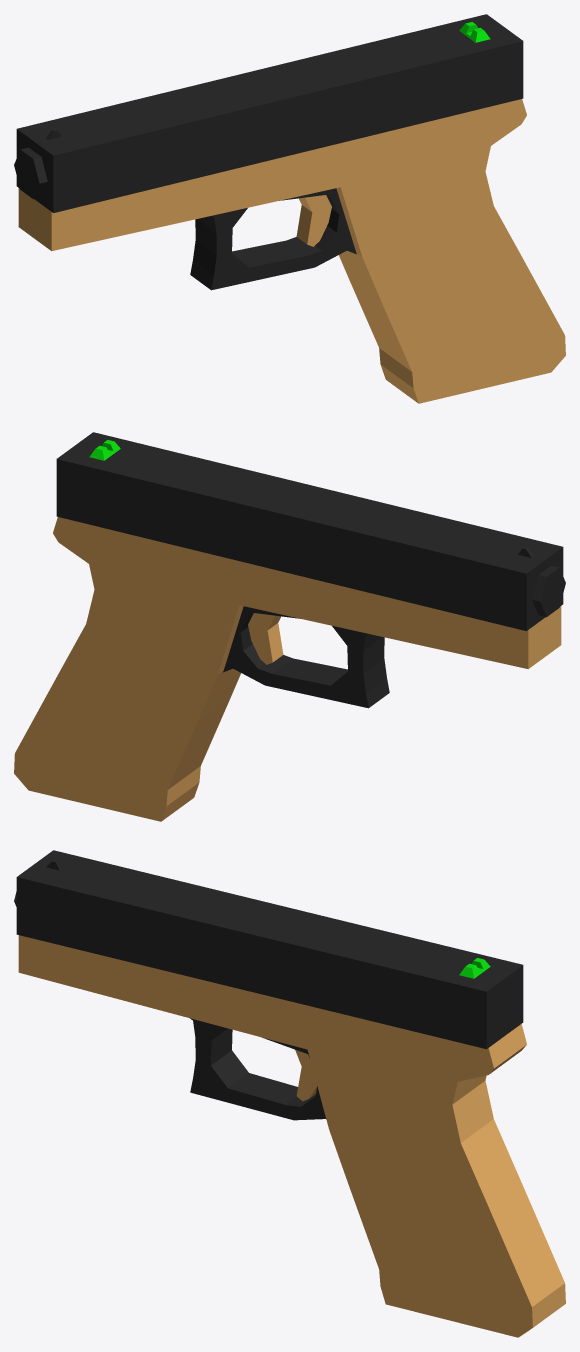
3 views of the same model, one above another, from view 1: azimuth 30°, elevation 25°; view 2: azimuth 150°, elevation 25°; view 3: azimuth 330°, elevation 25° (orthographic).
Parts seen in each view (by area): view 1: 큐브; view 2: 큐브; view 3: 큐브.
Boxes of the visible parts, x1,y1,x2,y2 form: 큐브: (14, 14, 565, 403); 큐브: (14, 432, 565, 821); 큐브: (14, 850, 565, 1337).
Size of the model in its own units: 410 by 261 by 50.
